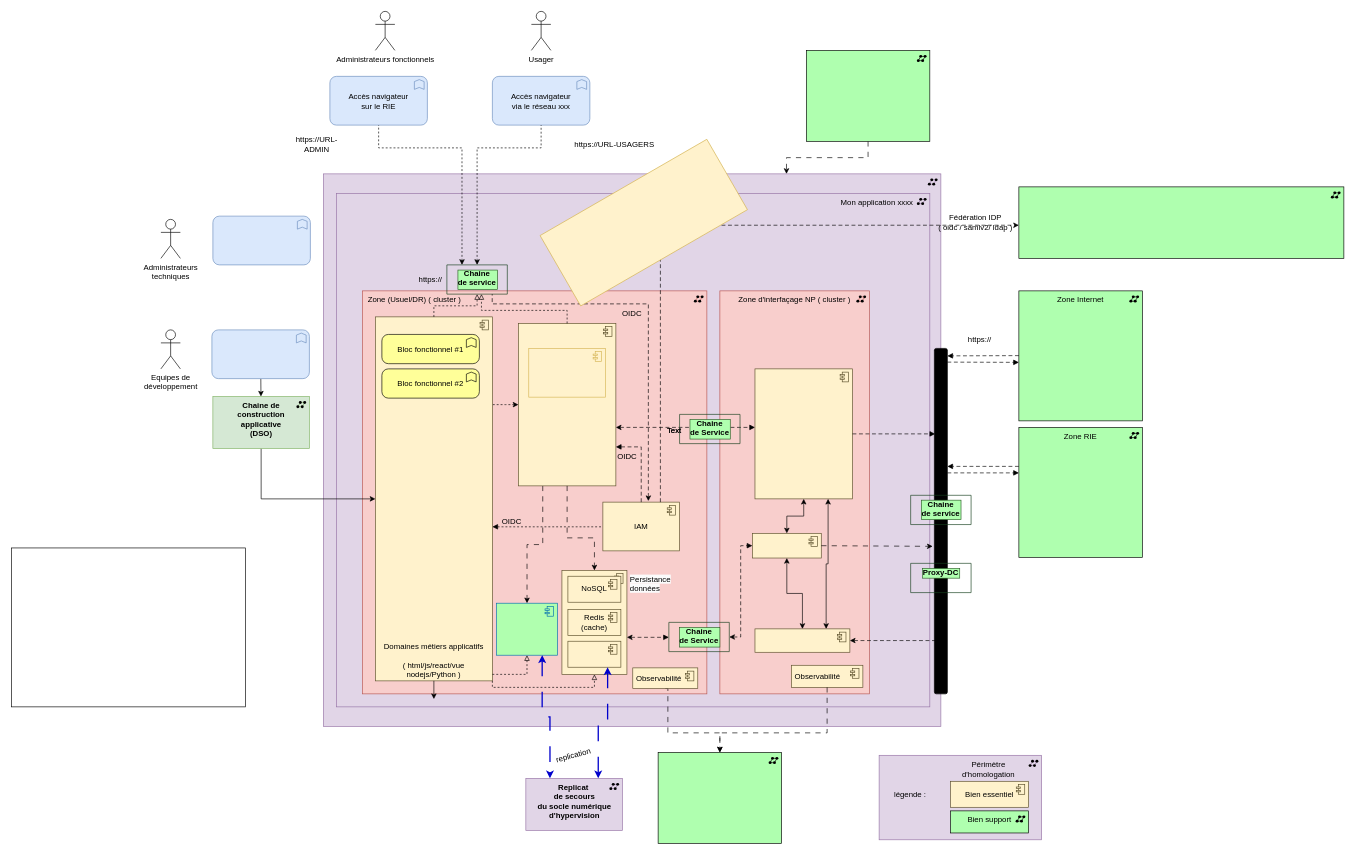
The diagram is 1355 pixels wide and 855 high, and some of its shapes have lost their labels. Each missing label, with the centre of its shape:
"Accès développeurs ( chaine de construction applicative )" goes at point (260, 354).
"Accès administration technique (via bastion sécurisé)" goes at point (261, 240).
"API GW" goes at point (802, 640).
"Application server" goes at point (566, 372).
"Bus message ( Kafka )" goes at point (786, 545).
"Ce système a pour finalité de xxx" goes at point (128, 627).
"EXEMPLE A METTRE A JOUR" goes at point (643, 222).
"Mon application en zone Usuelle" goes at point (803, 433).
"Persistance objets S3 (+backup)" goes at point (526, 629).
"Posgresql" goes at point (594, 654).
"Supervision Applicative" goes at point (868, 95).
"Supervision de Sécurité" goes at point (719, 797).
"Zone Identity provider" goes at point (1181, 222).
